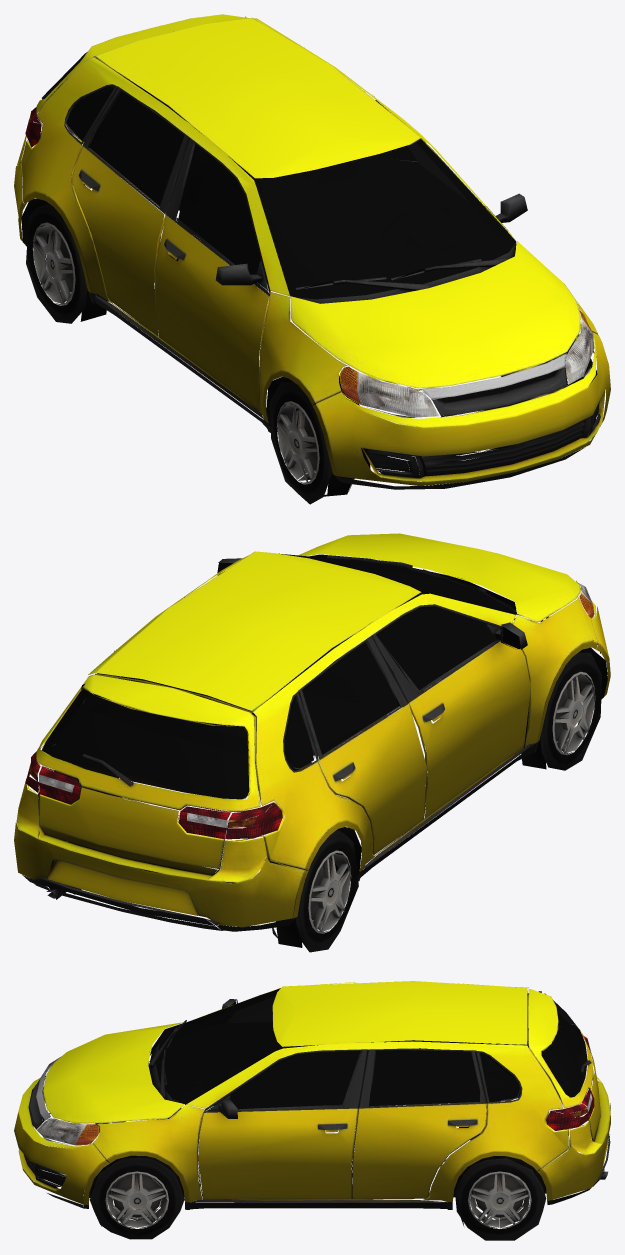
The model's file is car-hatchback.glb.
3 views of the same model, one above another, from view 1: azimuth 30°, elevation 25°; view 2: azimuth 150°, elevation 25°; view 3: azimuth 270°, elevation 25° (orthographic). The views are drawn at different scales.
Visible parts, largest first — view 1: Hatchback Body_Body_0; view 2: Hatchback Body_Body_0; view 3: Hatchback Body_Body_0.
Part boxes in pixels (left/top/right/bottom): Hatchback Body_Body_0: left=14, top=14, right=610, bottom=504; Hatchback Body_Body_0: left=14, top=533, right=610, bottom=952; Hatchback Body_Body_0: left=14, top=981, right=610, bottom=1240.
Size of the model in its own units: 1.74 by 1.37 by 3.96.
4 materials, 3 textured.
